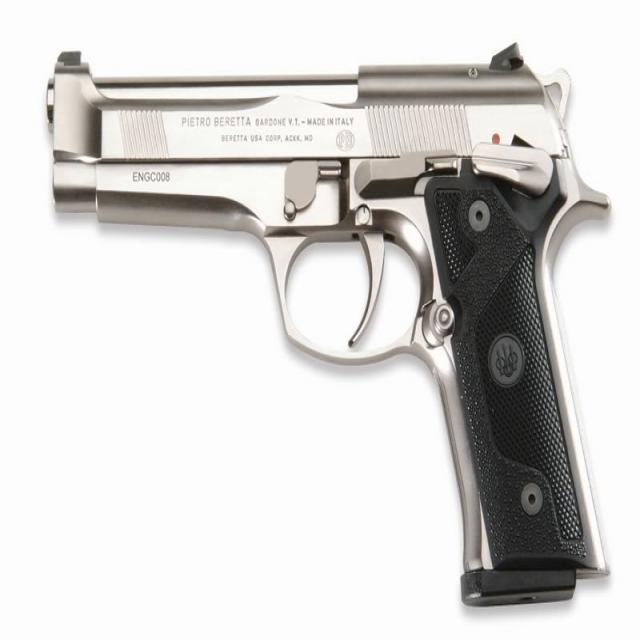gun-knife-thesis - v11 Yolov5 augmented: (37, 26, 629, 621)
